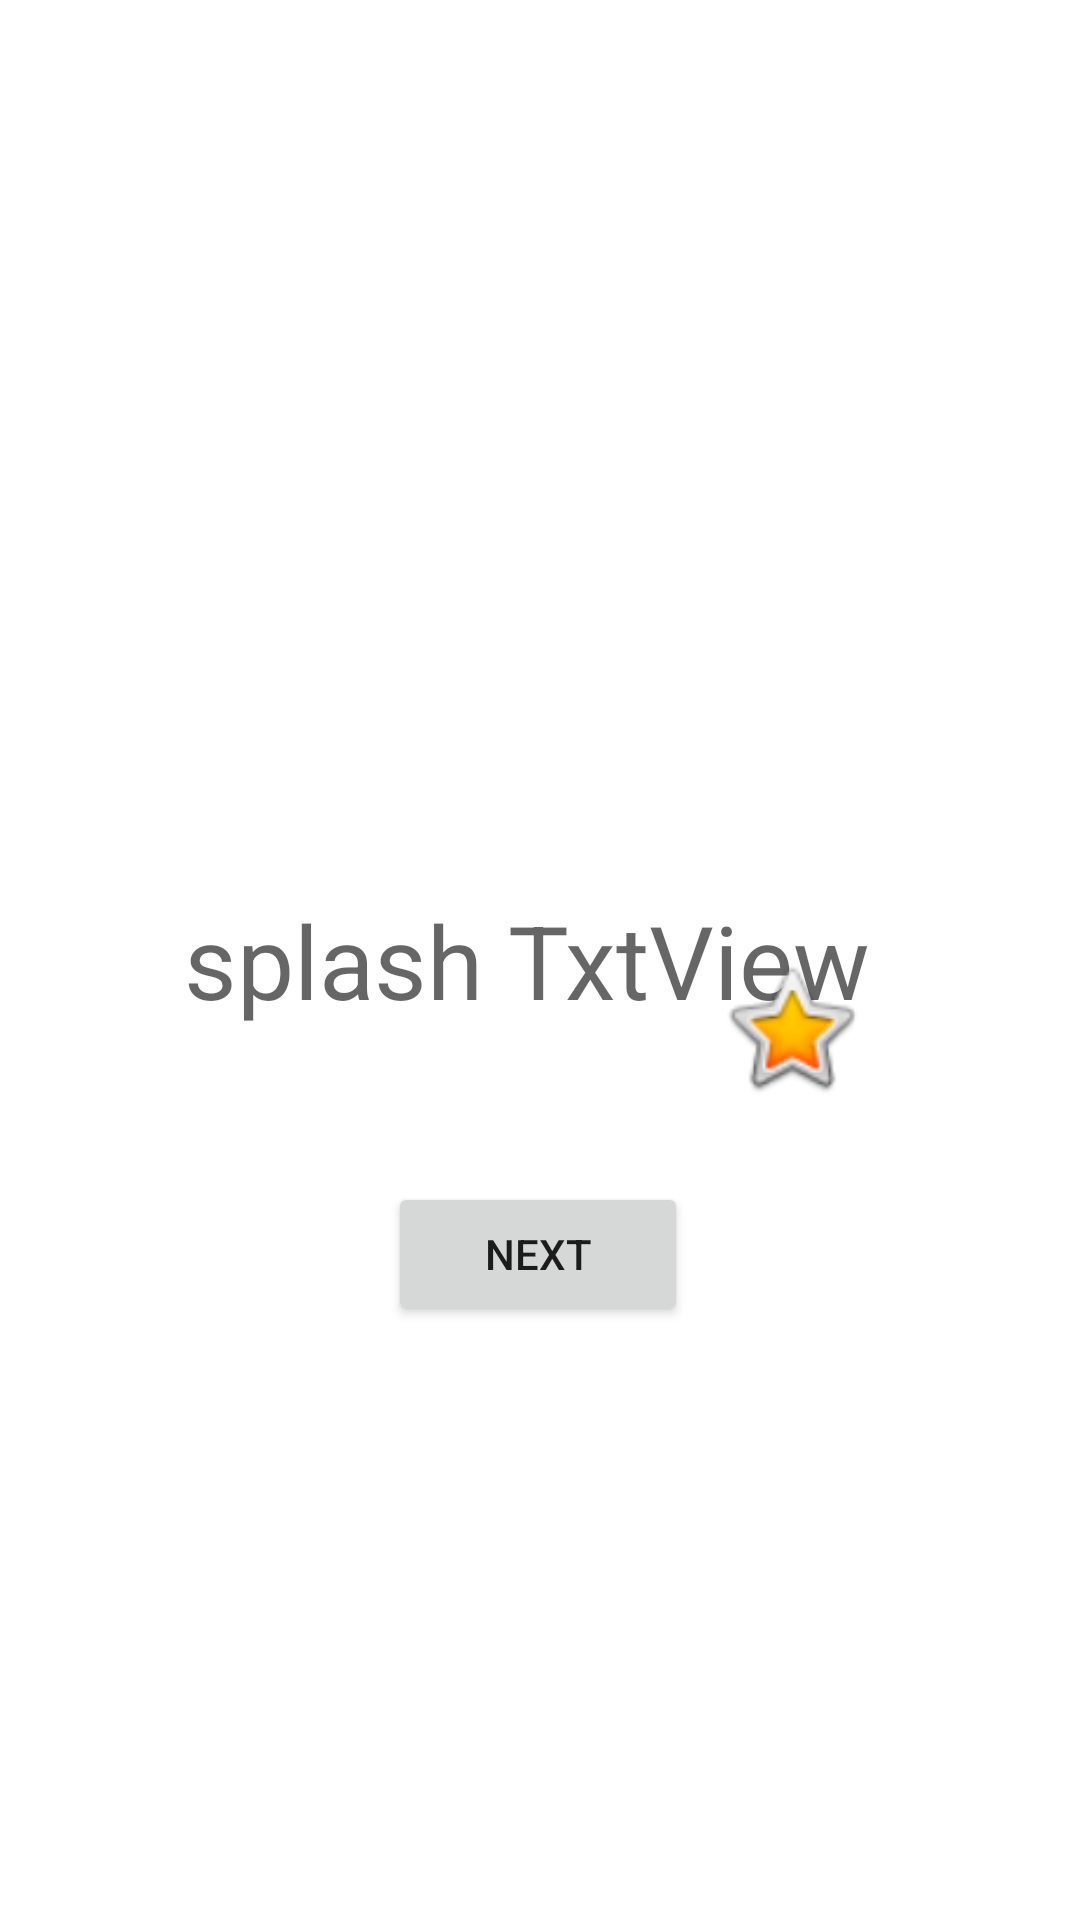

Locate icon controls on the screen. Image size 1080w x 1920h, boxes as (x1, y1, x2, y2).
star on: (721, 953, 865, 1090)
